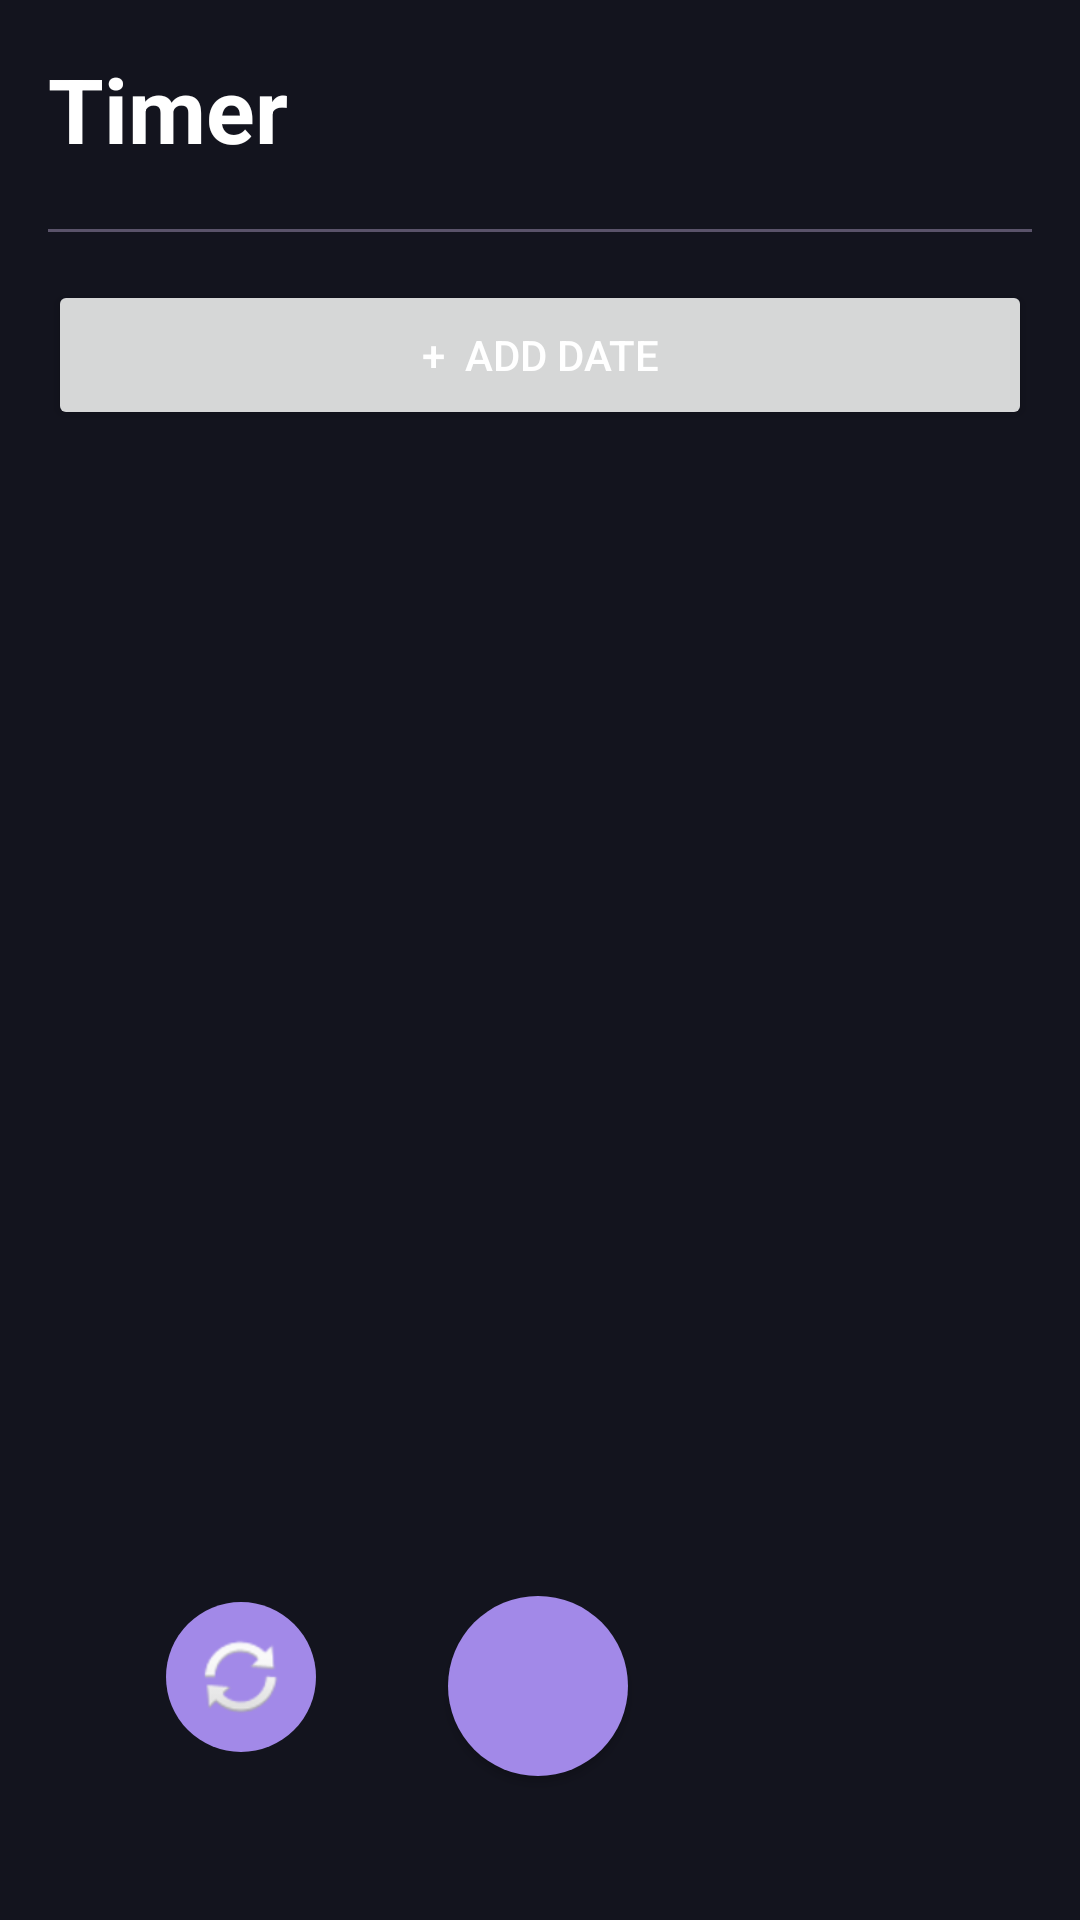

Screen size 1080*1920. Icon name, then its box in pixels as (x1, y1, x2, y2):
popup sync: (166, 1602, 316, 1752)
